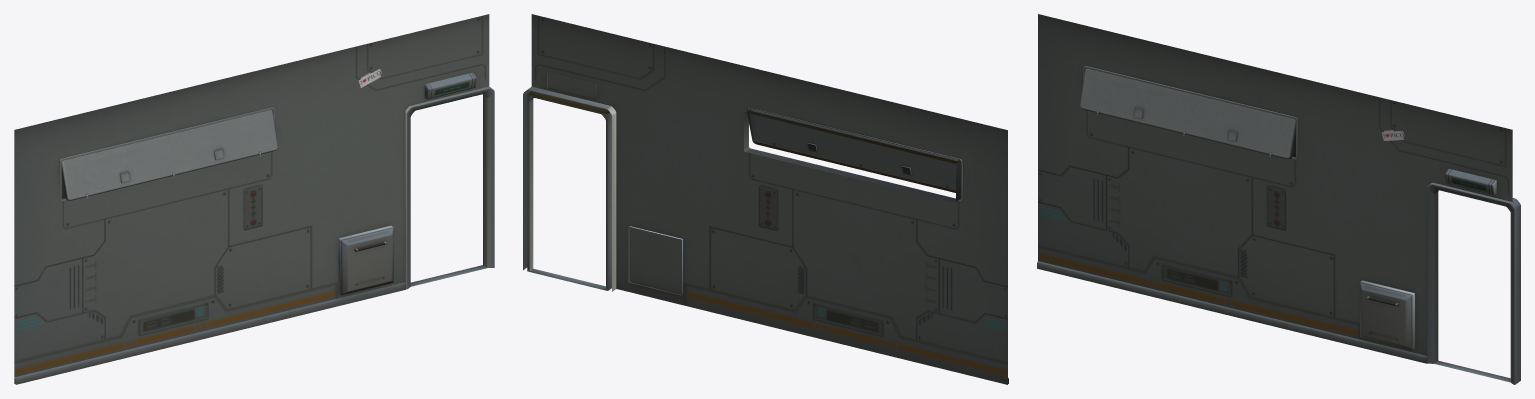
File: Pico_Q.FBX
3 views of the same model, side by side, from view 1: azimuth 30°, elevation 25°; view 2: azimuth 150°, elevation 25°; view 3: azimuth 330°, elevation 25° (orthographic).
Visible parts, largest first — view 1: Pico_01_FenKaiQ, qiangban, men, Pico_01_FenKaiX, Pico_01_XieGui, Pico_01_MenPai; view 2: Pico_01_FenKaiQ, qiangban, men; view 3: Pico_01_FenKaiQ, qiangban, men, Pico_01_FenKaiX, Pico_01_XieGui, Pico_01_MenPai.
Part boxes in pixels (x1=…): Pico_01_FenKaiQ: x1=14, y1=14, x2=489, y2=383; qiangban: x1=59, y1=107, x2=278, y2=201; men: x1=405, y1=86, x2=494, y2=289; Pico_01_FenKaiX: x1=14, y1=282, x2=405, y2=384; Pico_01_XieGui: x1=338, y1=225, x2=393, y2=295; Pico_01_MenPai: x1=424, y1=72, x2=476, y2=99; Pico_01_FenKaiQ: x1=527, y1=14, x2=1007, y2=384; qiangban: x1=744, y1=107, x2=962, y2=202; men: x1=523, y1=87, x2=616, y2=291; Pico_01_FenKaiQ: x1=1038, y1=14, x2=1512, y2=382; qiangban: x1=1079, y1=66, x2=1297, y2=159; men: x1=1427, y1=182, x2=1520, y2=384; Pico_01_FenKaiX: x1=1037, y1=261, x2=1426, y2=363; Pico_01_XieGui: x1=1360, y1=280, x2=1414, y2=350; Pico_01_MenPai: x1=1444, y1=168, x2=1496, y2=195.
Size of the model in its own units: 691 by 350 by 28.64.
